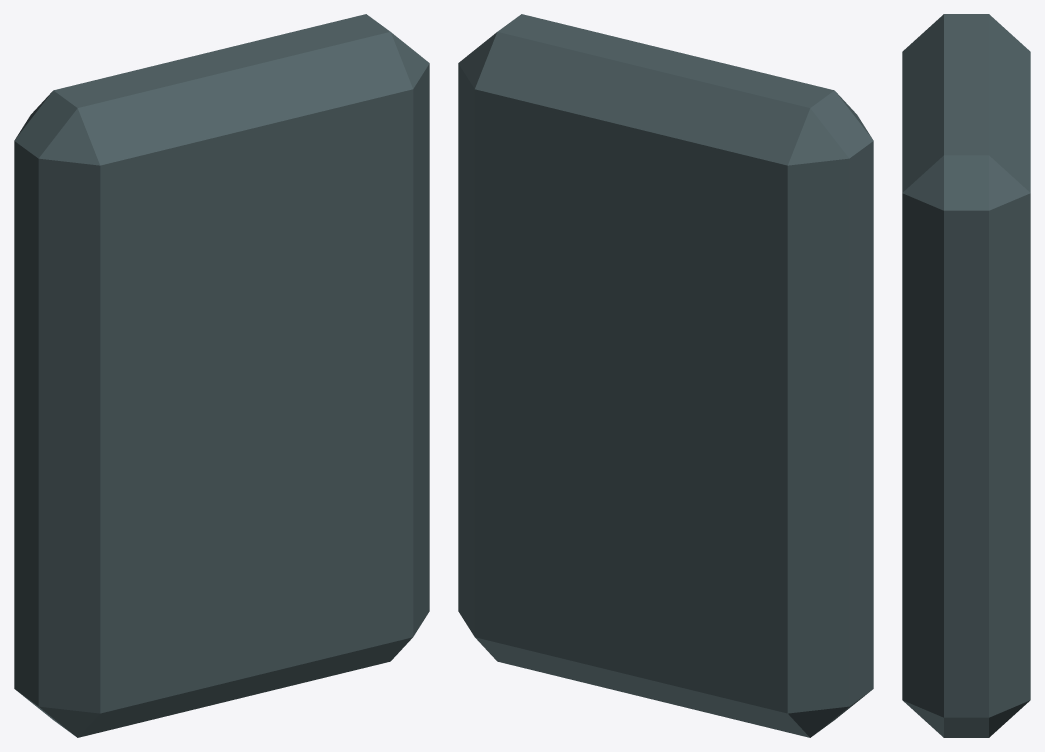
File: thigh.glb
3 views of the same model, side by side, from view 1: azimuth 30°, elevation 25°; view 2: azimuth 150°, elevation 25°; view 3: azimuth 270°, elevation 25° (orthographic). The views are drawn at different scales.
Parts seen in each view (by area): view 1: thigh; view 2: thigh; view 3: thigh.
Part boxes in pixels (<box>): thigh: <box>14,14,429,737</box>; thigh: <box>458,14,873,737</box>; thigh: <box>902,14,1030,737</box>.
Bounding box in the file's own units: 0.65 × 1 × 0.2.
